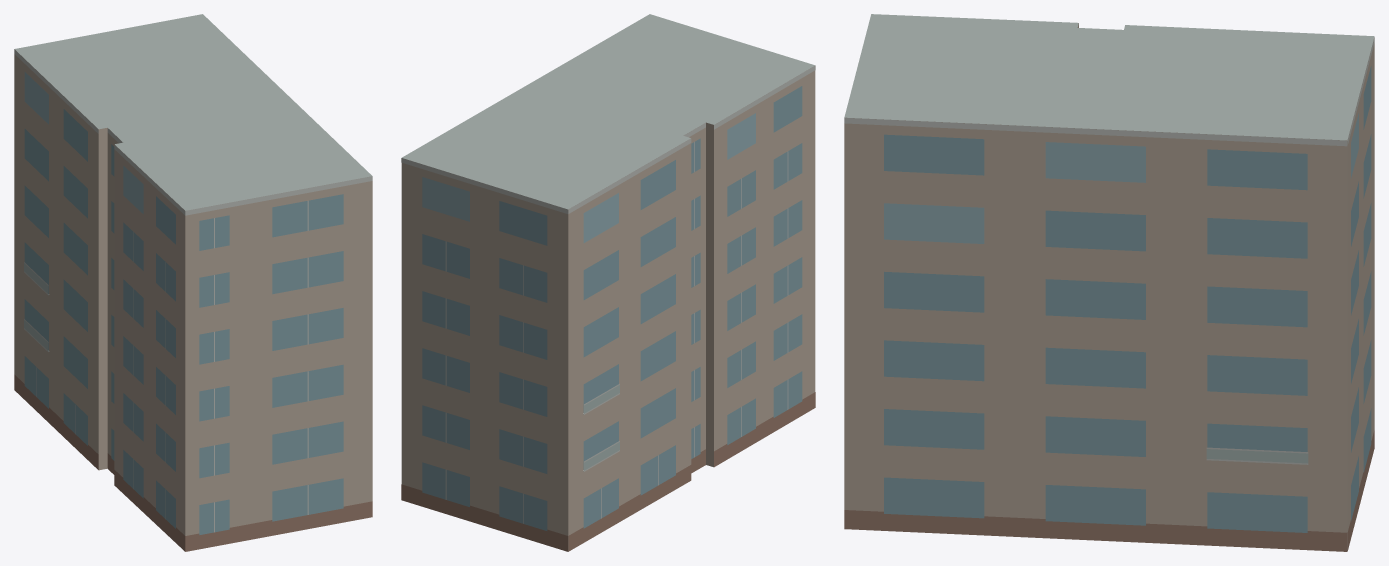
The model's file is survey-upis-32567395.glb.
3 renders of one model, left to right at view 1: azimuth 30°, elevation 25°; view 2: azimuth 150°, elevation 25°; view 3: azimuth 270°, elevation 25°, orthographic. The views are drawn at different scales.
Parts seen in each view (by area): view 1: survey-upis-32567395.tmp; view 2: survey-upis-32567395.tmp; view 3: survey-upis-32567395.tmp.
Boxes of the visible parts, x1,y1,x2,y2 form: survey-upis-32567395.tmp: (14, 14, 372, 551); survey-upis-32567395.tmp: (401, 14, 815, 551); survey-upis-32567395.tmp: (844, 14, 1374, 551).
Bounding box in the file's own units: 11.42 × 17.3 × 20.22.
